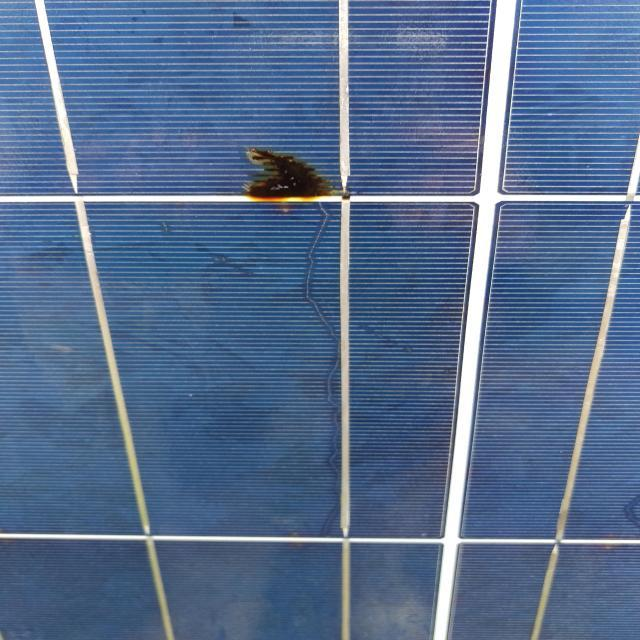Electrical-damage: (201, 107, 413, 267)
